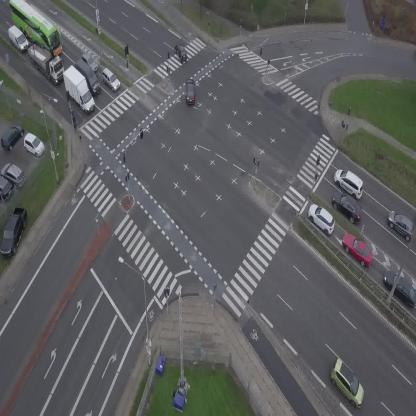bicycle: (71, 115, 79, 132), (413, 46, 416, 52)
car: (321, 356, 373, 409), (337, 228, 379, 272), (327, 187, 368, 227), (329, 165, 370, 201), (303, 200, 341, 238), (96, 66, 124, 94), (79, 50, 102, 73), (173, 42, 189, 63), (185, 79, 195, 104)
lorry: (17, 35, 73, 89), (58, 62, 97, 118), (72, 56, 104, 98), (3, 23, 33, 53)
